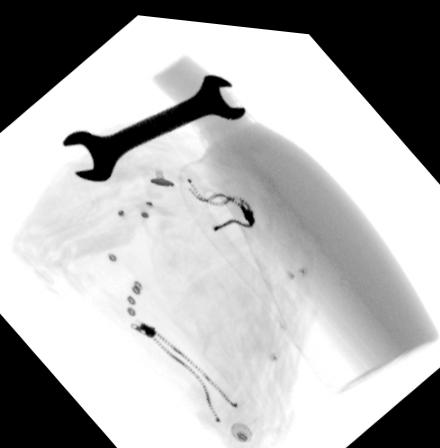Wrench: (59, 66, 248, 180)
